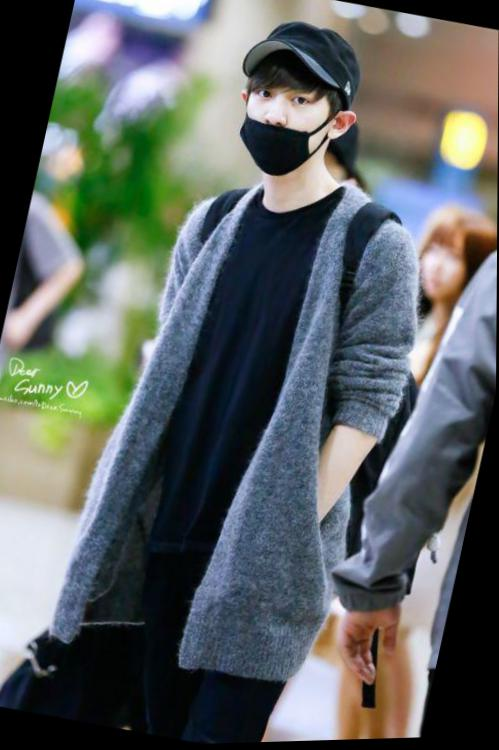NONE: (416, 241, 473, 306)
WRONG: (224, 69, 344, 190)
